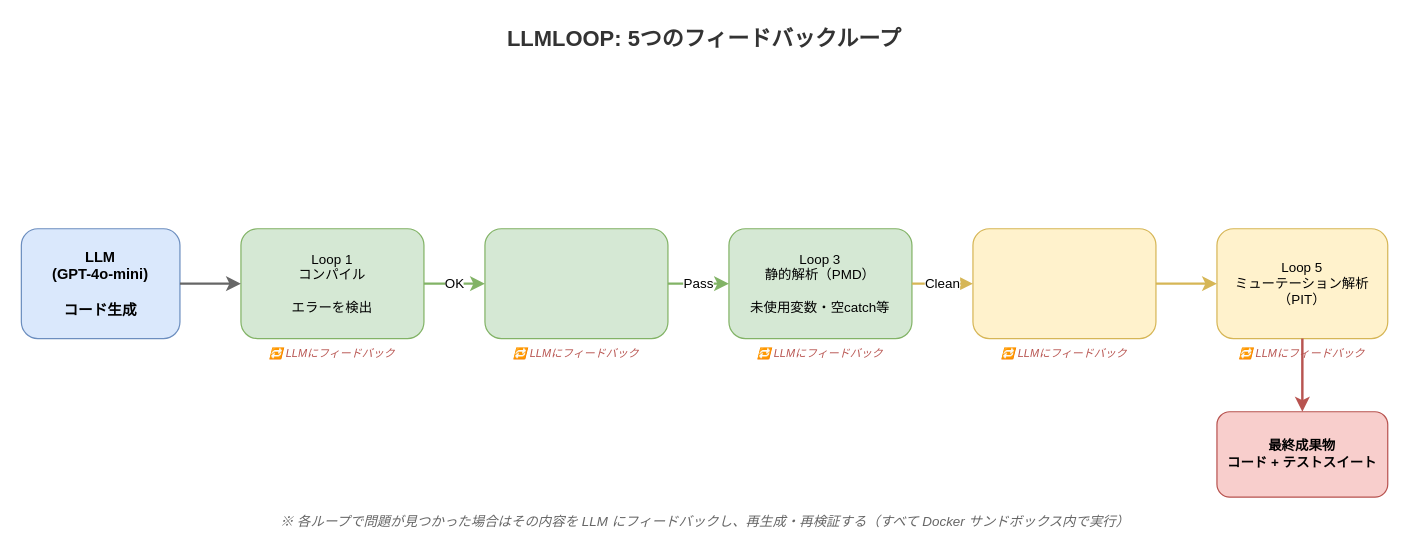
Image size: 1409x554. Some labels were removed from this diagram. Each missing label, with the centre of its shape:
"Loop 2 テスト実行 失敗テストを検出" belongs at point (576, 283).
"Loop 4 テスト生成 EvoSuite / LLM" belongs at point (1064, 283).
